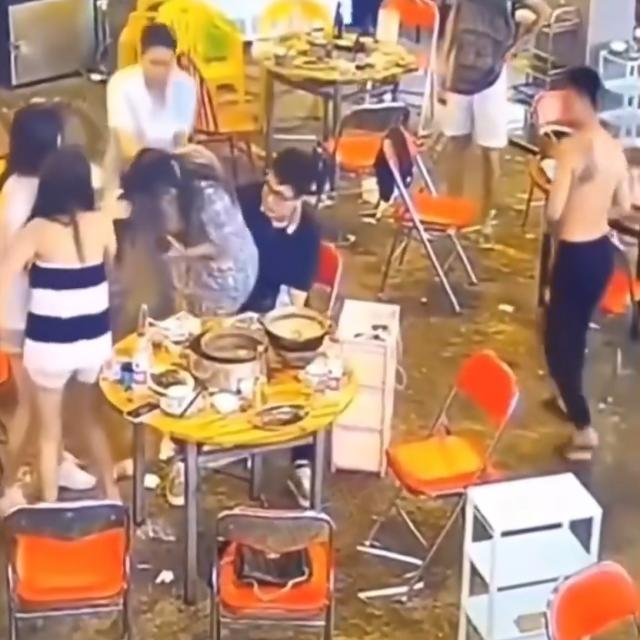nofight: (0, 148, 118, 514), (524, 60, 620, 458), (434, 0, 516, 266)
